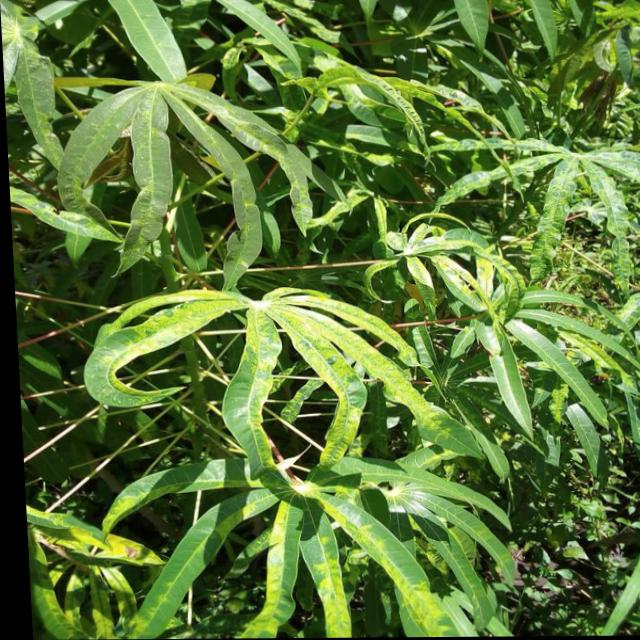Mosaico: (102, 449, 486, 640), (93, 276, 415, 442), (432, 134, 640, 279), (420, 238, 545, 397)
